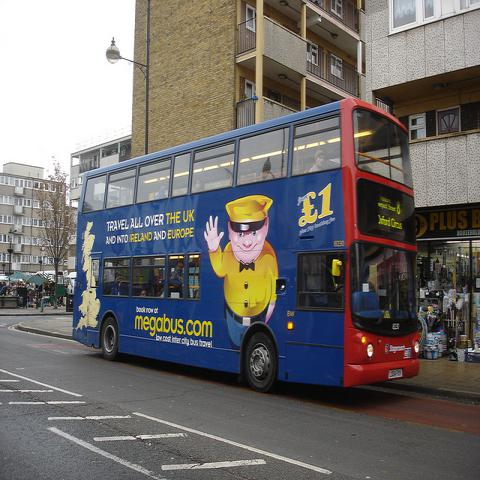bus: (67, 99, 423, 393)
